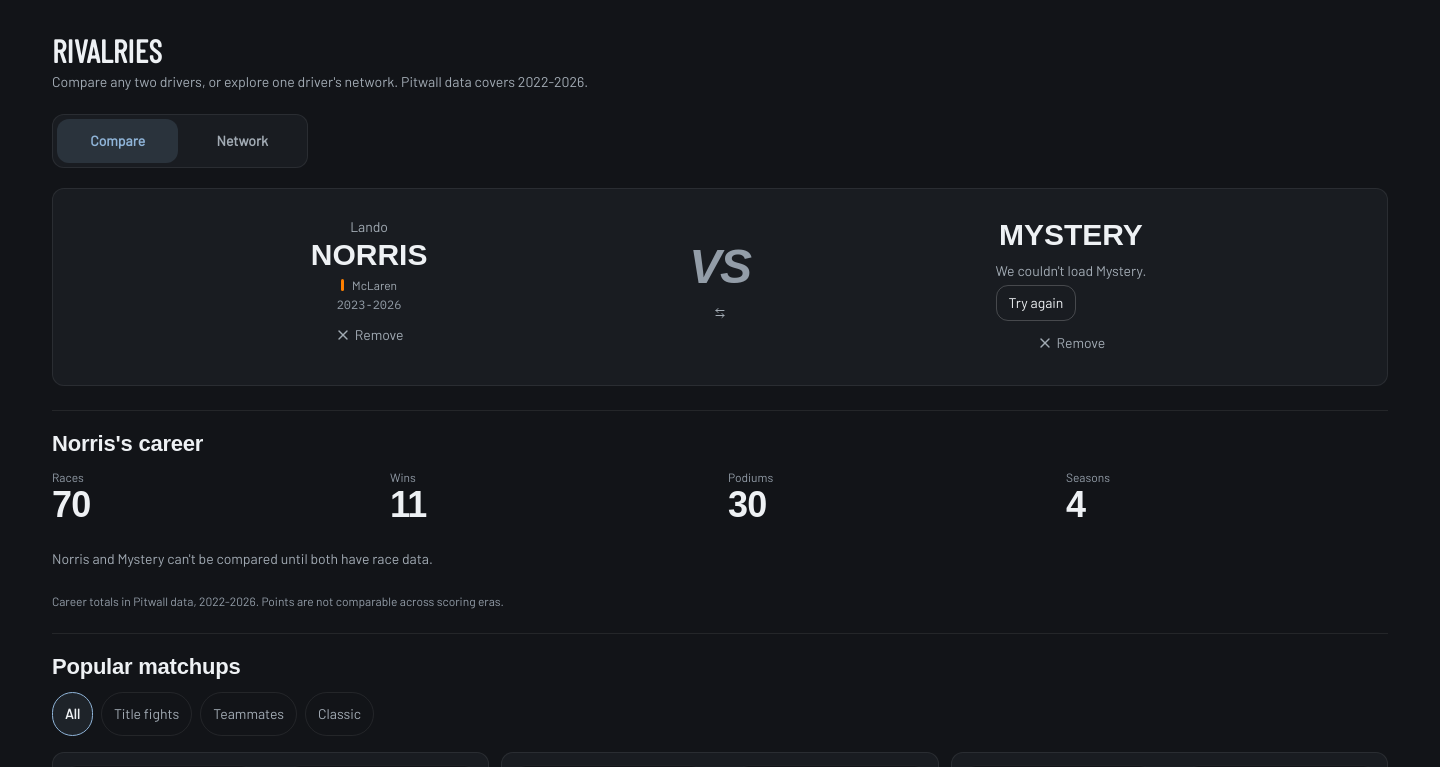
Test: Rivalries page › an error affects only its slot and can be retried
Expected: the message shows "We couldn't load Mystery.", 996,261 -> 1146,321
Expected: the heading "Norris's career" is shown, 52,431 -> 203,456
Click the button "Try again". click: (1036, 303)
box: 996,285 -> 1076,321
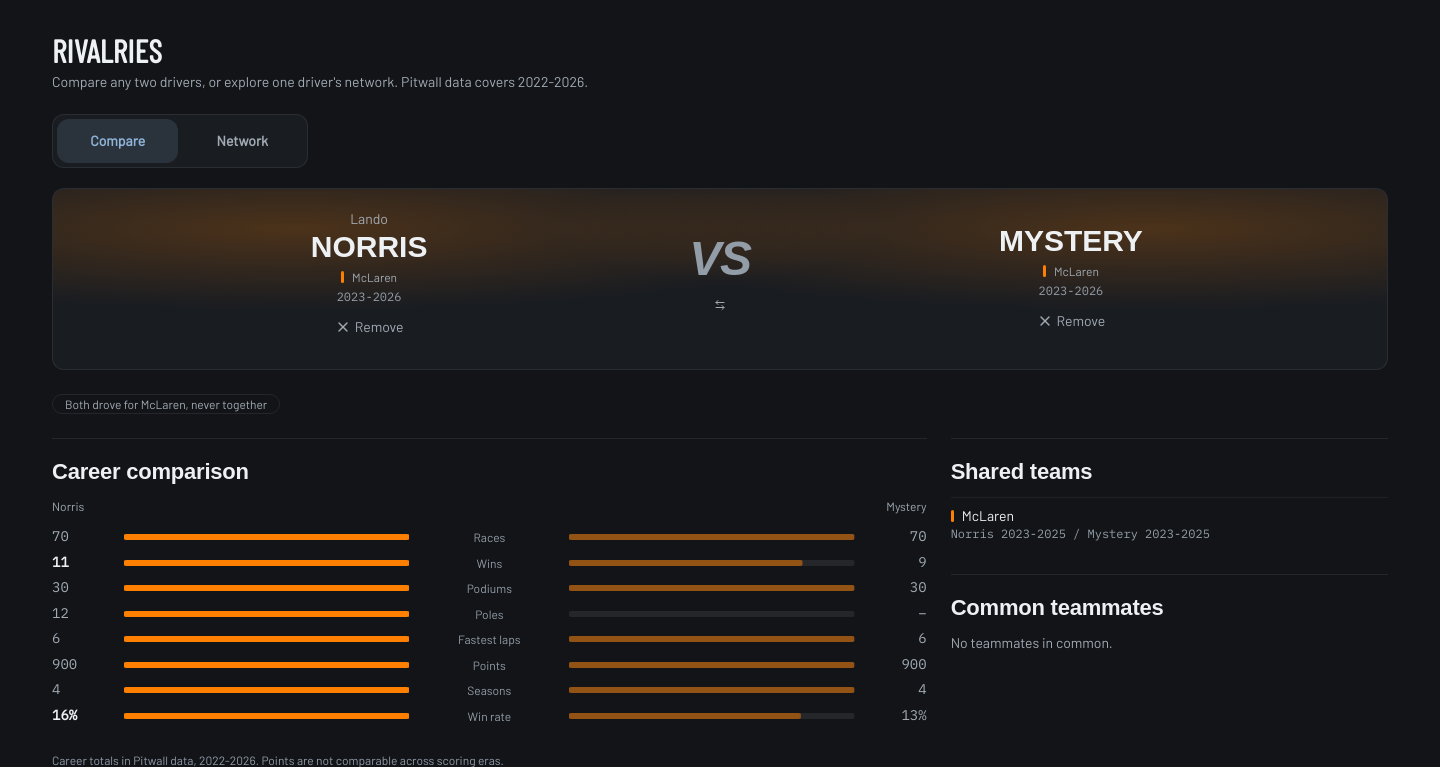
Result: the heading "Career comparison" is shown at 52,459 -> 249,484
